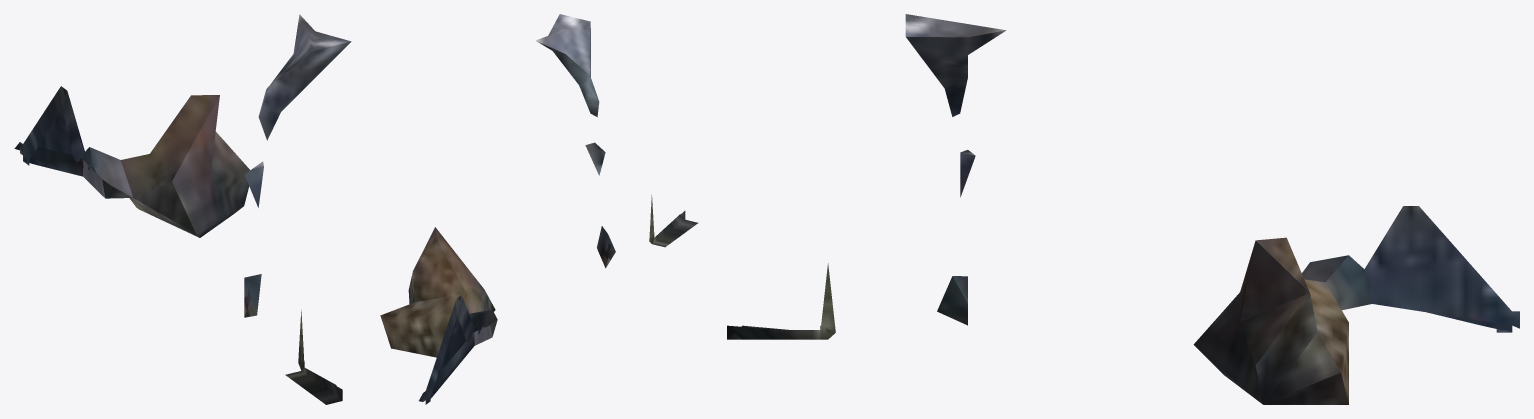
3 renders of one model, left to right at view 1: azimuth 30°, elevation 25°; view 2: azimuth 150°, elevation 25°; view 3: azimuth 270°, elevation 25°, orthographic. The views are drawn at different scales.
Parts seen in each view (by area): view 1: 30436272704361624616_0; view 2: 30436272704361624616_0; view 3: 30436272704361624616_0.
Boxes of the visible parts, x1,y1,x2,y2 form: 30436272704361624616_0: [14, 14, 351, 404]; 30436272704361624616_0: [380, 14, 697, 404]; 30436272704361624616_0: [727, 14, 1519, 404].
Size of the model in its own units: 3.99 by 7.71 by 15.73.
1 material, 1 textured.
